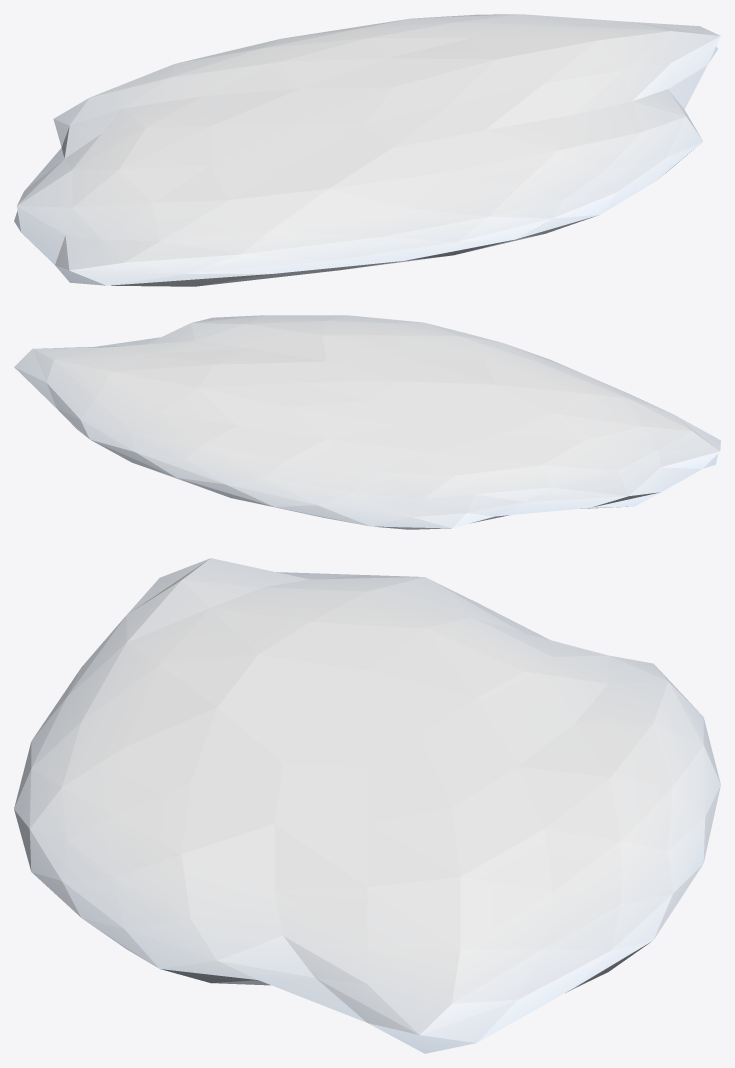
Rendered from Snow_Patch.fbx.
3 renders of one model, top to bottom at view 1: azimuth 30°, elevation 25°; view 2: azimuth 150°, elevation 25°; view 3: azimuth 270°, elevation 25°, orthographic. The views are drawn at different scales.
Visible parts, largest first — view 1: Snow_Patch_LOD0; view 2: Snow_Patch_LOD0; view 3: Snow_Patch_LOD0.
Part boxes in pixels (<box>): Snow_Patch_LOD0: <box>14,14,720,286</box>; Snow_Patch_LOD0: <box>14,315,720,529</box>; Snow_Patch_LOD0: <box>14,558,720,1053</box>.
Size of what is drawn, in the model's own units: 8.93 by 0.4012 by 5.6.
1 material, 1 textured.
